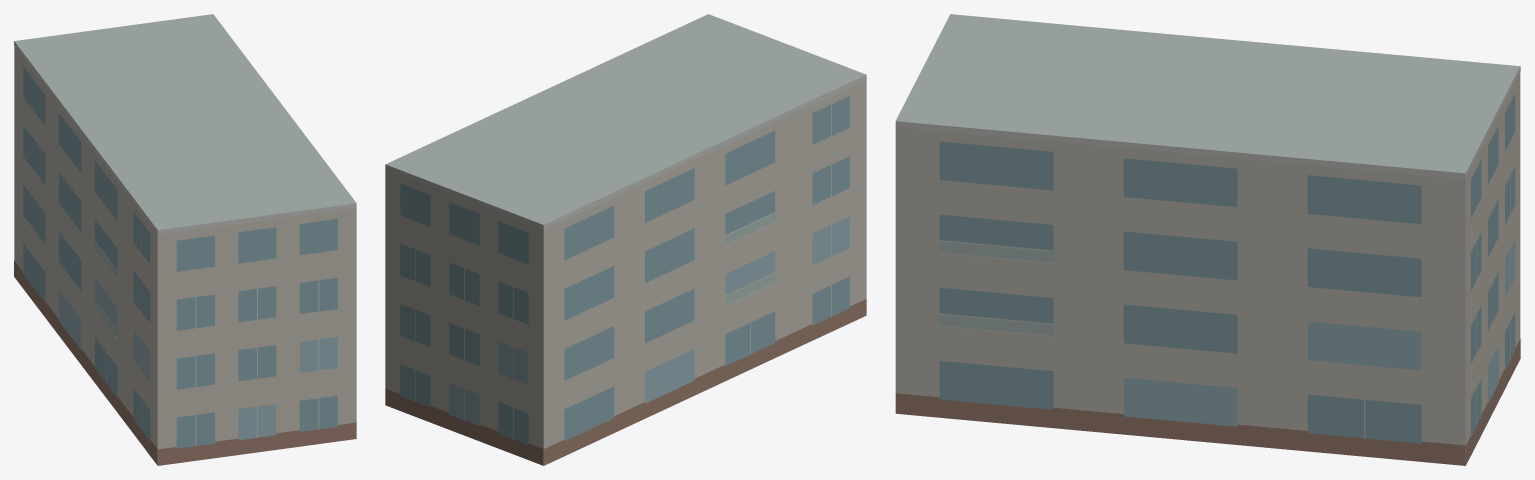
Rendered from residential-be518132-6b9f-42ac-aa3c-3cd3584b5154.glb.
The picture shows the model from 3 angles, left to right: view 1: azimuth 30°, elevation 25°; view 2: azimuth 150°, elevation 25°; view 3: azimuth 270°, elevation 25°; orthographic projection. The views are drawn at different scales.
Parts seen in each view (by area): view 1: residential-be518132-6b9f-42ac-aa3c-3cd3584b5154.tmp; view 2: residential-be518132-6b9f-42ac-aa3c-3cd3584b5154.tmp; view 3: residential-be518132-6b9f-42ac-aa3c-3cd3584b5154.tmp.
Boxes of the visible parts, bbox=[...] form: residential-be518132-6b9f-42ac-aa3c-3cd3584b5154.tmp: bbox=[14, 14, 356, 465]; residential-be518132-6b9f-42ac-aa3c-3cd3584b5154.tmp: bbox=[385, 14, 866, 465]; residential-be518132-6b9f-42ac-aa3c-3cd3584b5154.tmp: bbox=[895, 14, 1520, 465].
Size of the model in its own units: 14.27 by 12.2 by 23.63.
